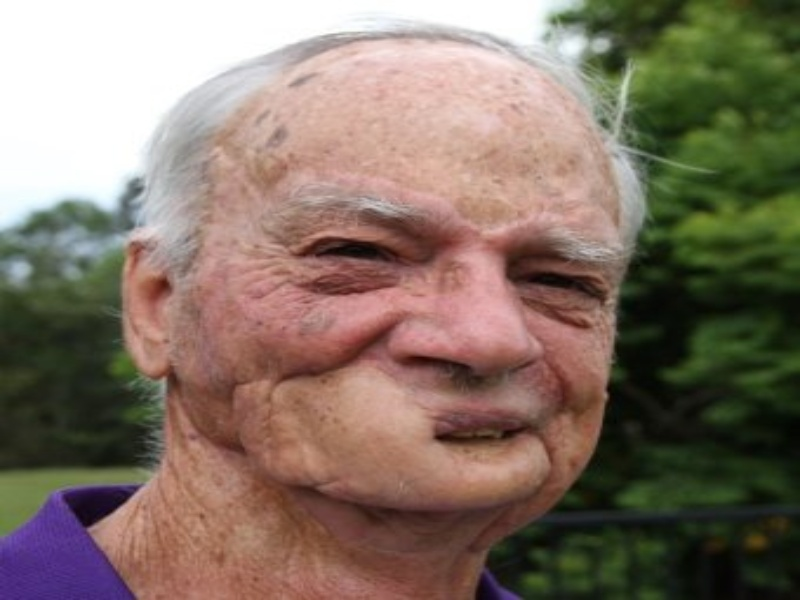face: (287, 195, 615, 469)
